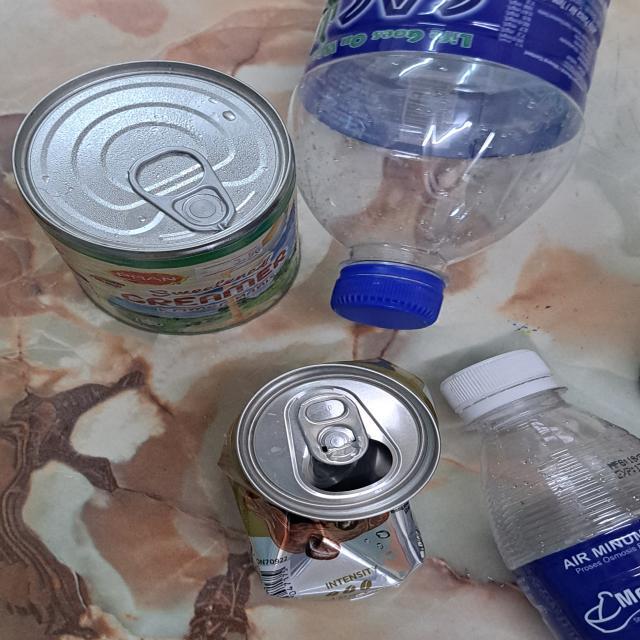can: (12, 60, 304, 337), (218, 356, 439, 602)
plastic bottle: (290, 0, 609, 282), (474, 393, 640, 639)
plastic bottle cap: (438, 346, 551, 418), (329, 265, 448, 330)
pop tab: (128, 147, 235, 233), (298, 394, 370, 466)
